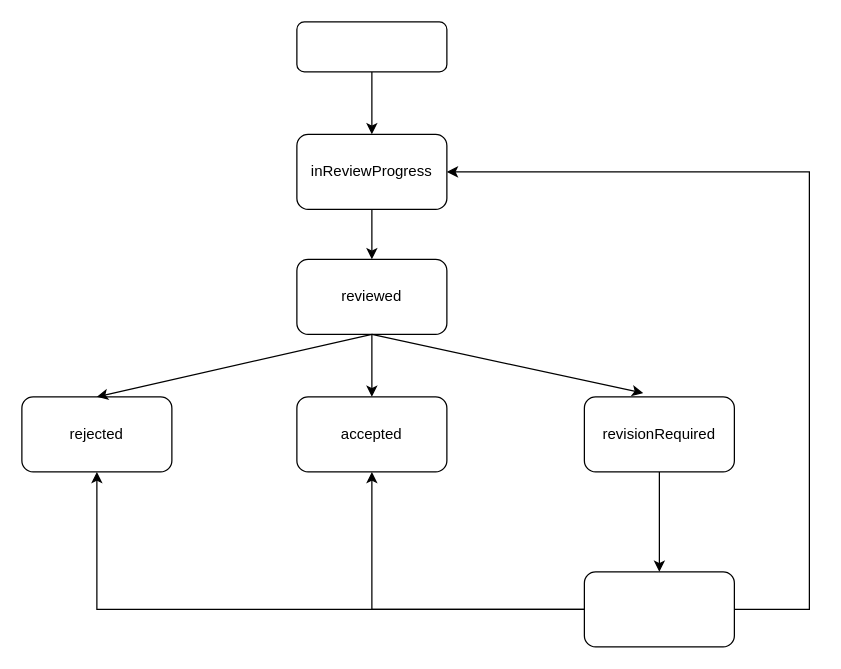
The diagram is 841 pixels wide and 669 high, and some of its shapes have lost their labels. Here are the shapes that lost their labels. From the top down, the box of each, then its label:
(296, 21, 447, 72): toBeReviewed
(583, 571, 734, 647): revisionRecieved
